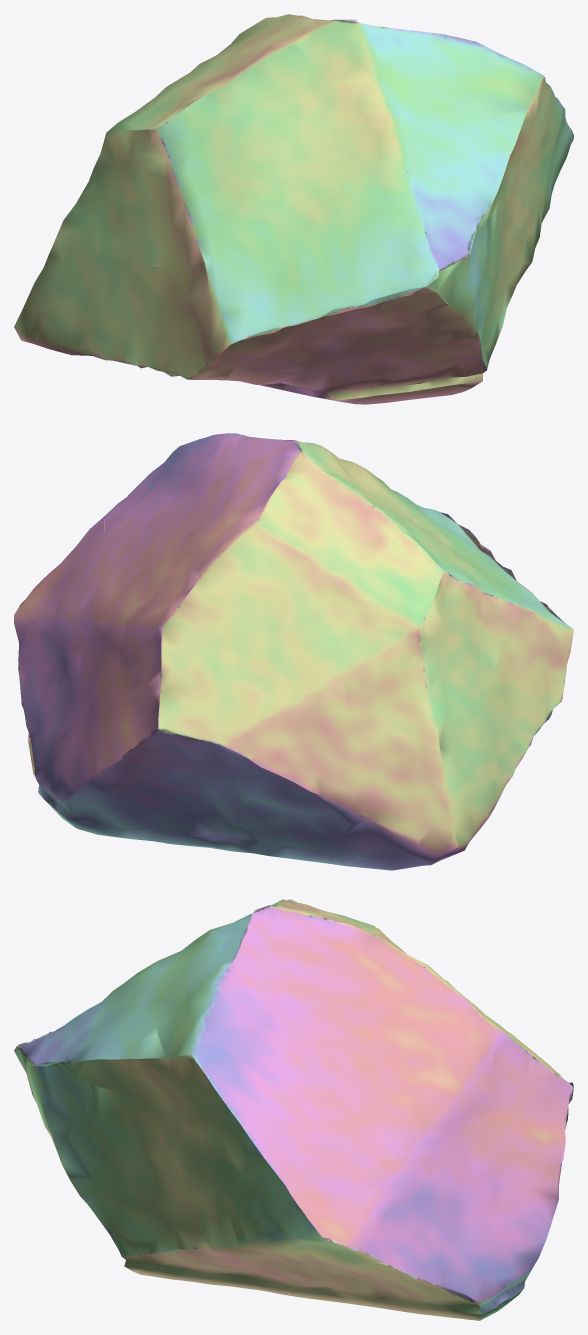
The model's file is mineral_iridio.fbx.
The picture shows the model from 3 angles, top to bottom: view 1: azimuth 30°, elevation 25°; view 2: azimuth 150°, elevation 25°; view 3: azimuth 270°, elevation 25°; orthographic projection. The views are drawn at different scales.
Parts seen in each view (by area): view 1: mineral_iridio; view 2: mineral_iridio; view 3: mineral_iridio.
Part boxes in pixels (box(x1,y1,x2,y2)): mineral_iridio: box(14, 14, 573, 404); mineral_iridio: box(14, 433, 573, 870); mineral_iridio: box(14, 899, 573, 1320).
Bounding box in the file's own units: 2.22 × 1.43 × 2.12.
Materials: 1 (1 with a texture image).
